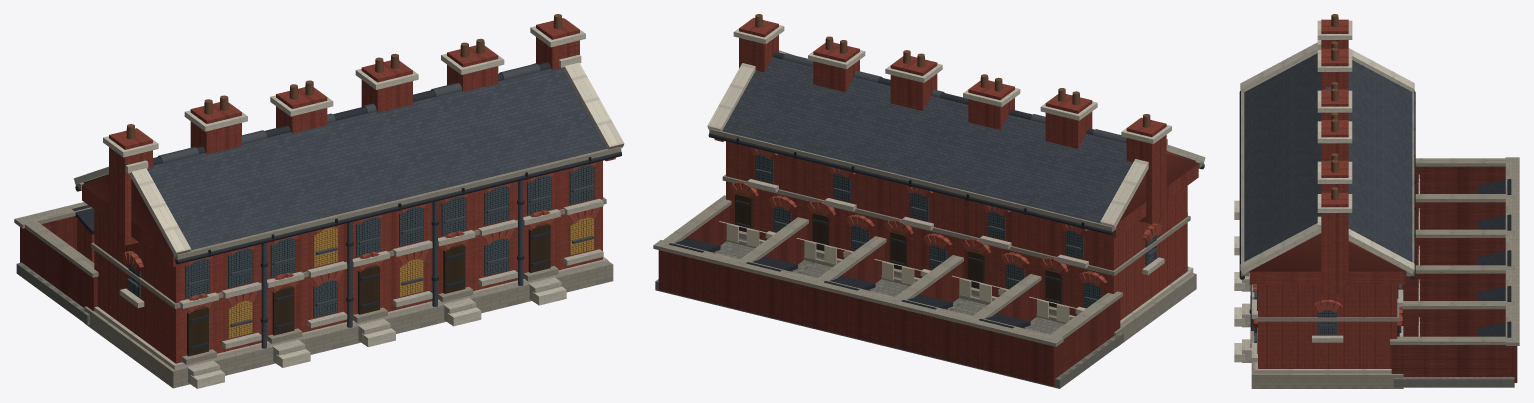
File: civic-industrial-workers-houses-built.glb
The picture shows the model from 3 angles, left to right: view 1: azimuth 30°, elevation 25°; view 2: azimuth 150°, elevation 25°; view 3: azimuth 270°, elevation 25°; orthographic projection. The views are drawn at different scales.
Bounding box in the file's own units: 24.9 × 11.9 × 15.57.
Materials: 26 (20 with a texture image).
